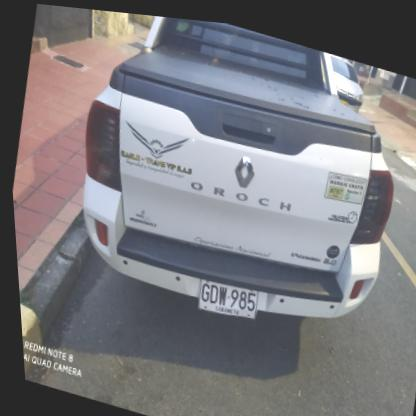placa: (186, 266, 260, 323)
